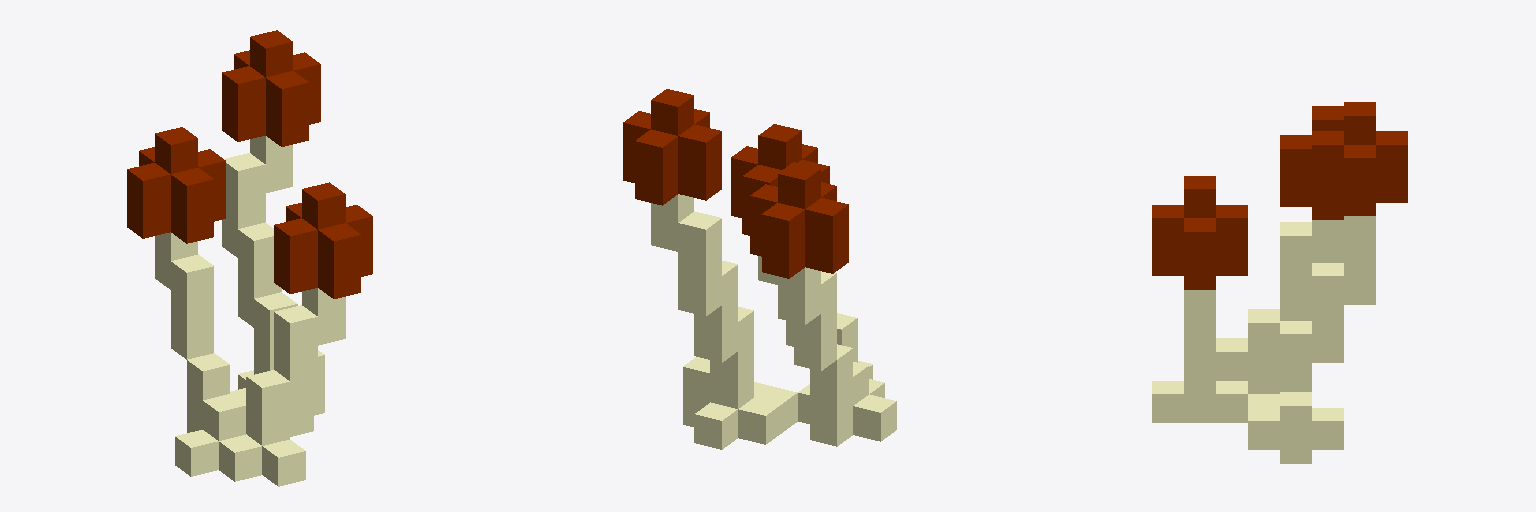
The picture shows the model from 3 angles: view 1: azimuth 30°, elevation 25°; view 2: azimuth 150°, elevation 25°; view 3: azimuth 270°, elevation 25°; orthographic projection.
Visible parts, largest first — view 1: object 1; view 2: object 1; view 3: object 1.
Boxes of the visible parts, x1,y1,x2,y2 form: object 1: [127, 30, 372, 486]; object 1: [623, 89, 896, 449]; object 1: [1152, 102, 1407, 463].
Size of the model in its own units: 0.7 by 1.2 by 0.8.
Materials: 1 (1 with a texture image).